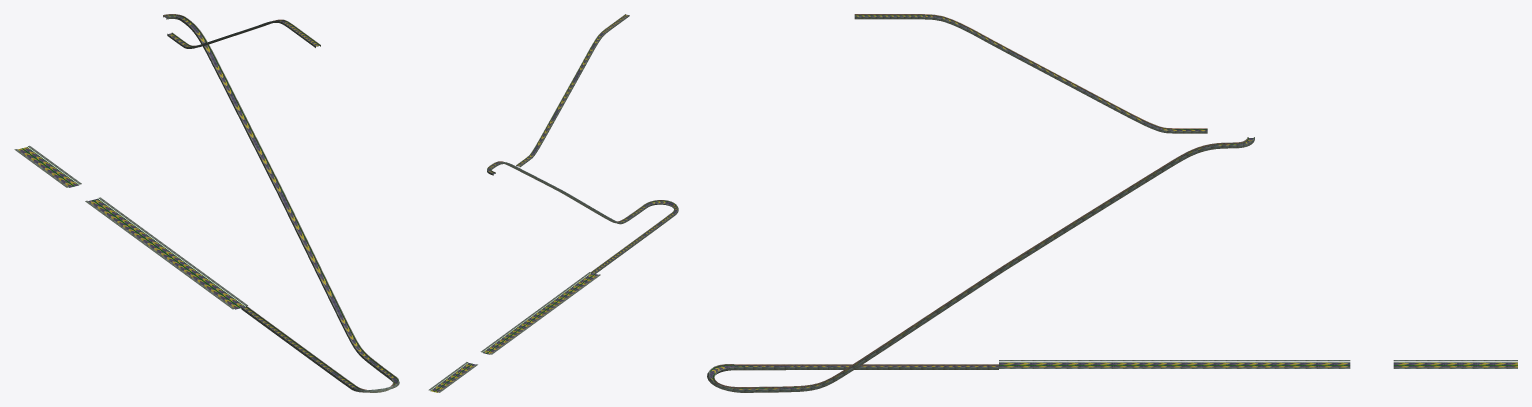
Rendered from Bullet Station 42.fbx.
3 views of the same model, side by side, from view 1: azimuth 30°, elevation 25°; view 2: azimuth 150°, elevation 25°; view 3: azimuth 270°, elevation 25° (orthographic). The views are drawn at different scales.
Parts seen in each view (by area): view 1: STG08_ONS_04; view 2: STG08_ONS_04; view 3: STG08_ONS_04.
Part boxes in pixels (x1,y1,x2,y2): STG08_ONS_04: (14,14,399,392); STG08_ONS_04: (428,14,678,392); STG08_ONS_04: (707,14,1517,392).
Bounding box in the file's own units: 81118 × 442089 × 899880.
